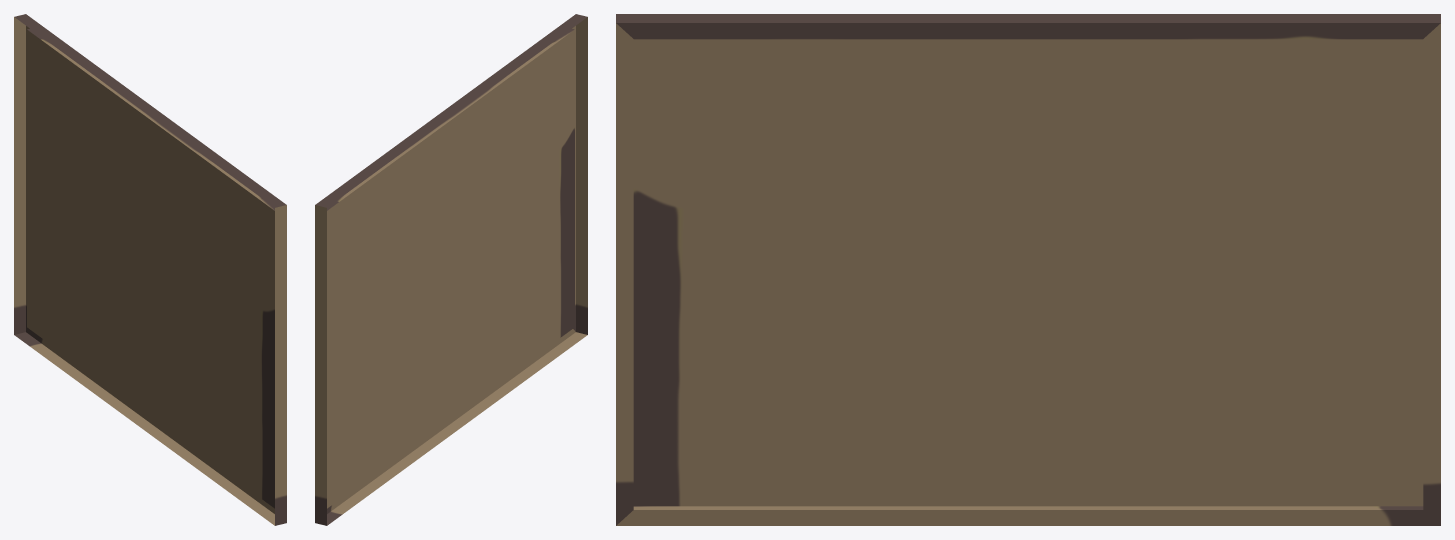
The model's file is SM_BillBoard.fbx.
3 views of the same model, side by side, from view 1: azimuth 30°, elevation 25°; view 2: azimuth 150°, elevation 25°; view 3: azimuth 270°, elevation 25° (orthographic). The views are drawn at different scales.
Parts seen in each view (by area): view 1: BillBoard; view 2: BillBoard; view 3: BillBoard.
Part boxes in pixels (box(x1,y1,x2,y2)): BillBoard: box(14, 14, 286, 525); BillBoard: box(315, 14, 587, 525); BillBoard: box(616, 14, 1440, 525).
Bounding box in the file's own units: 6.01 × 154 × 229.
